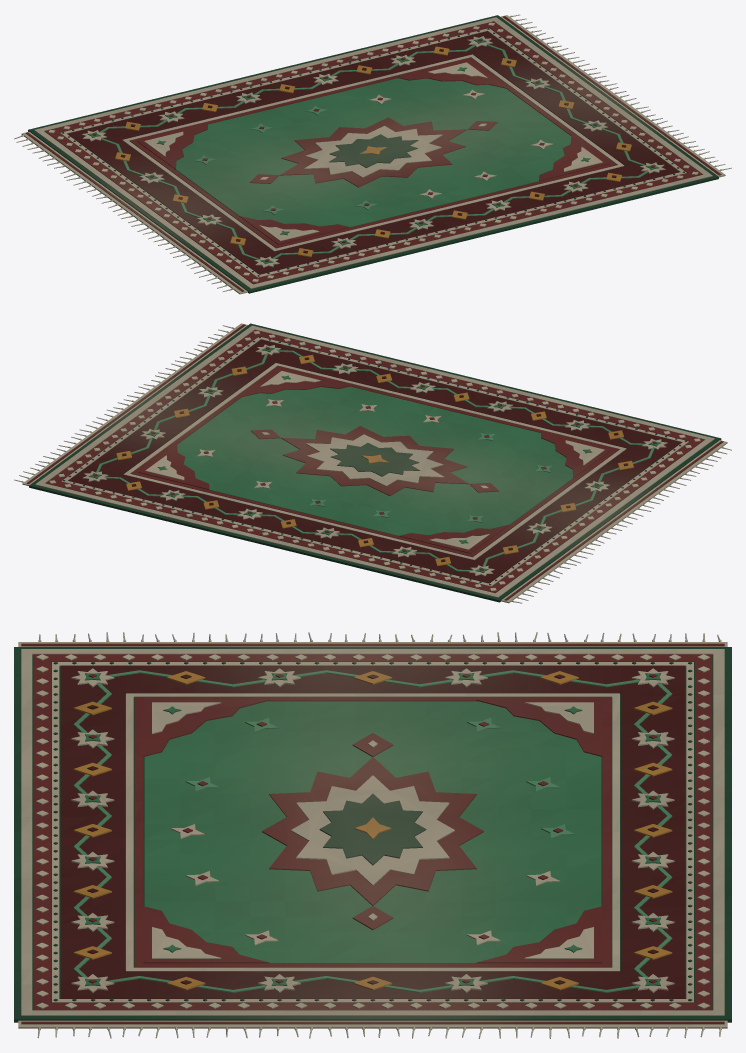
Rendered from reading-rug.glb.
The picture shows the model from 3 angles, top to bottom: view 1: azimuth 30°, elevation 25°; view 2: azimuth 150°, elevation 25°; view 3: azimuth 270°, elevation 25°; orthographic projection. The views are drawn at different scales.
Visible parts, largest first — view 1: reading_rug; view 2: reading_rug; view 3: reading_rug.
Part boxes in pixels (x1,y1,x2,y2): reading_rug: (14, 14, 731, 294); reading_rug: (14, 323, 731, 603); reading_rug: (14, 632, 731, 1038).
Size of the model in its own units: 2.59 by 0.025 by 1.94.
